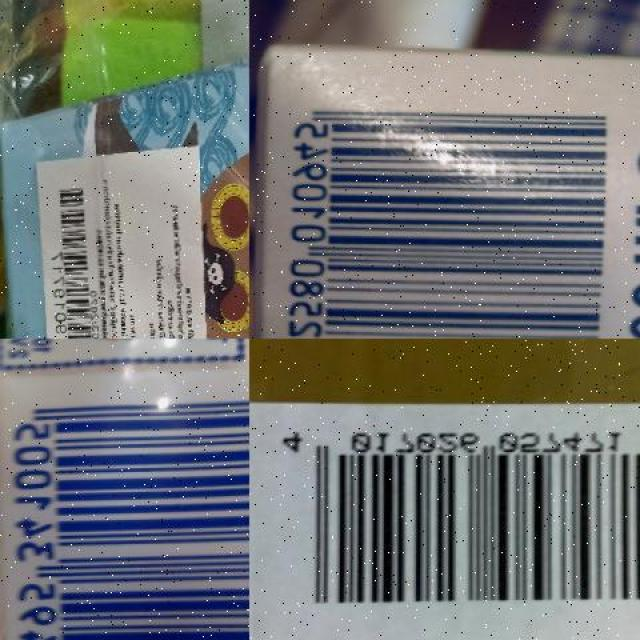Barcode: (275, 96, 612, 339), (249, 408, 640, 616), (0, 384, 249, 640), (46, 176, 98, 339)
